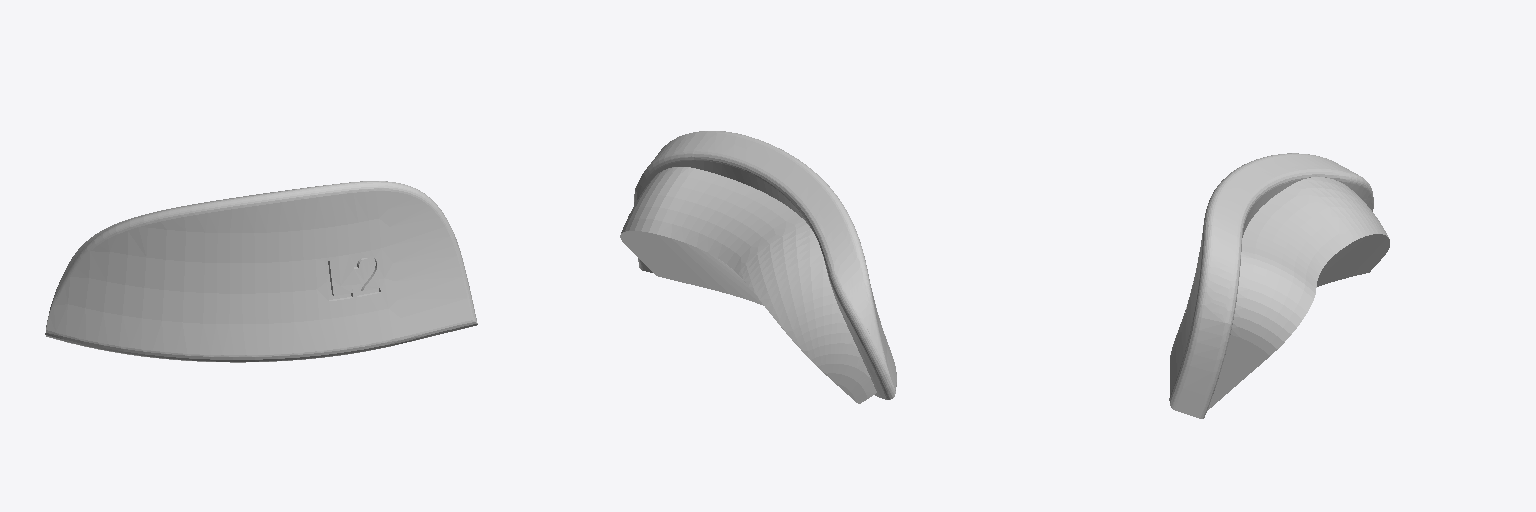
The model's file is Shoulder-Left-Trigger.obj.
3 views of the same model, side by side, from view 1: azimuth 30°, elevation 25°; view 2: azimuth 150°, elevation 25°; view 3: azimuth 270°, elevation 25° (orthographic).
Visible parts, largest first — view 1: Shoulder-Left-Trigger; view 2: Shoulder-Left-Trigger; view 3: Shoulder-Left-Trigger.
Part boxes in pixels (x1,y1,x2,y2): Shoulder-Left-Trigger: (45,181,477,362); Shoulder-Left-Trigger: (620,131,896,403); Shoulder-Left-Trigger: (1169,153,1389,418).
Size of the model in its own units: 24.45 by 11.44 by 13.84.